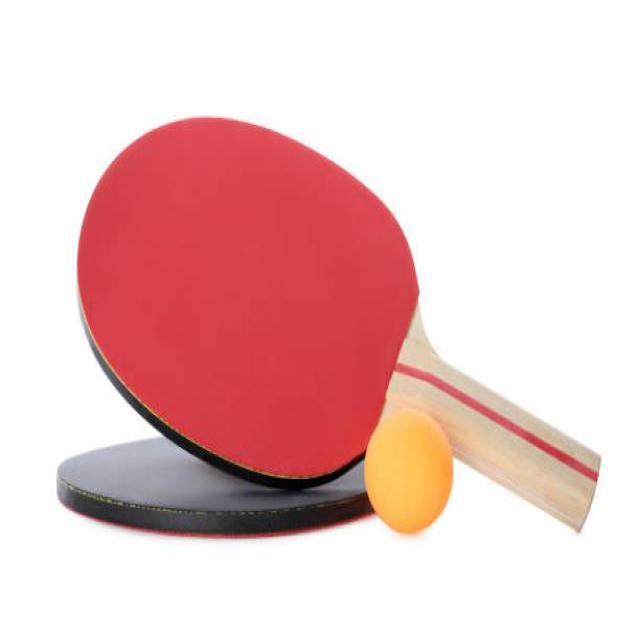ping-pong-ball: (364, 410, 451, 532)
